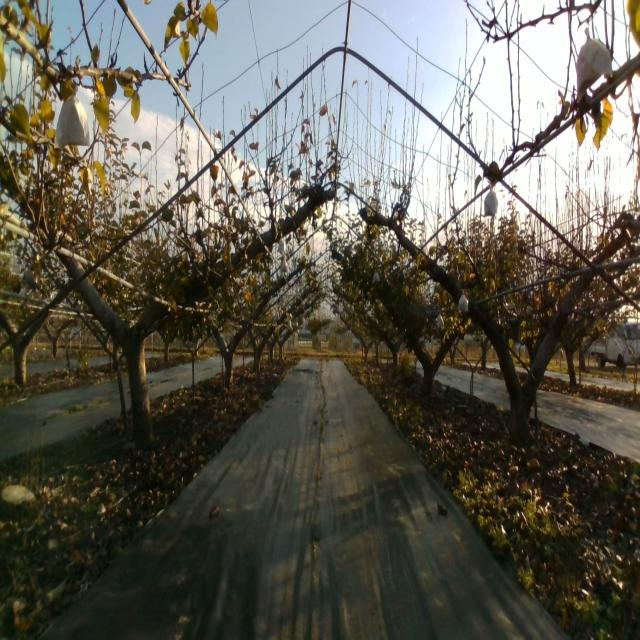pearbags: (575, 26, 614, 107), (53, 97, 90, 151), (483, 184, 499, 216), (457, 289, 469, 314)
